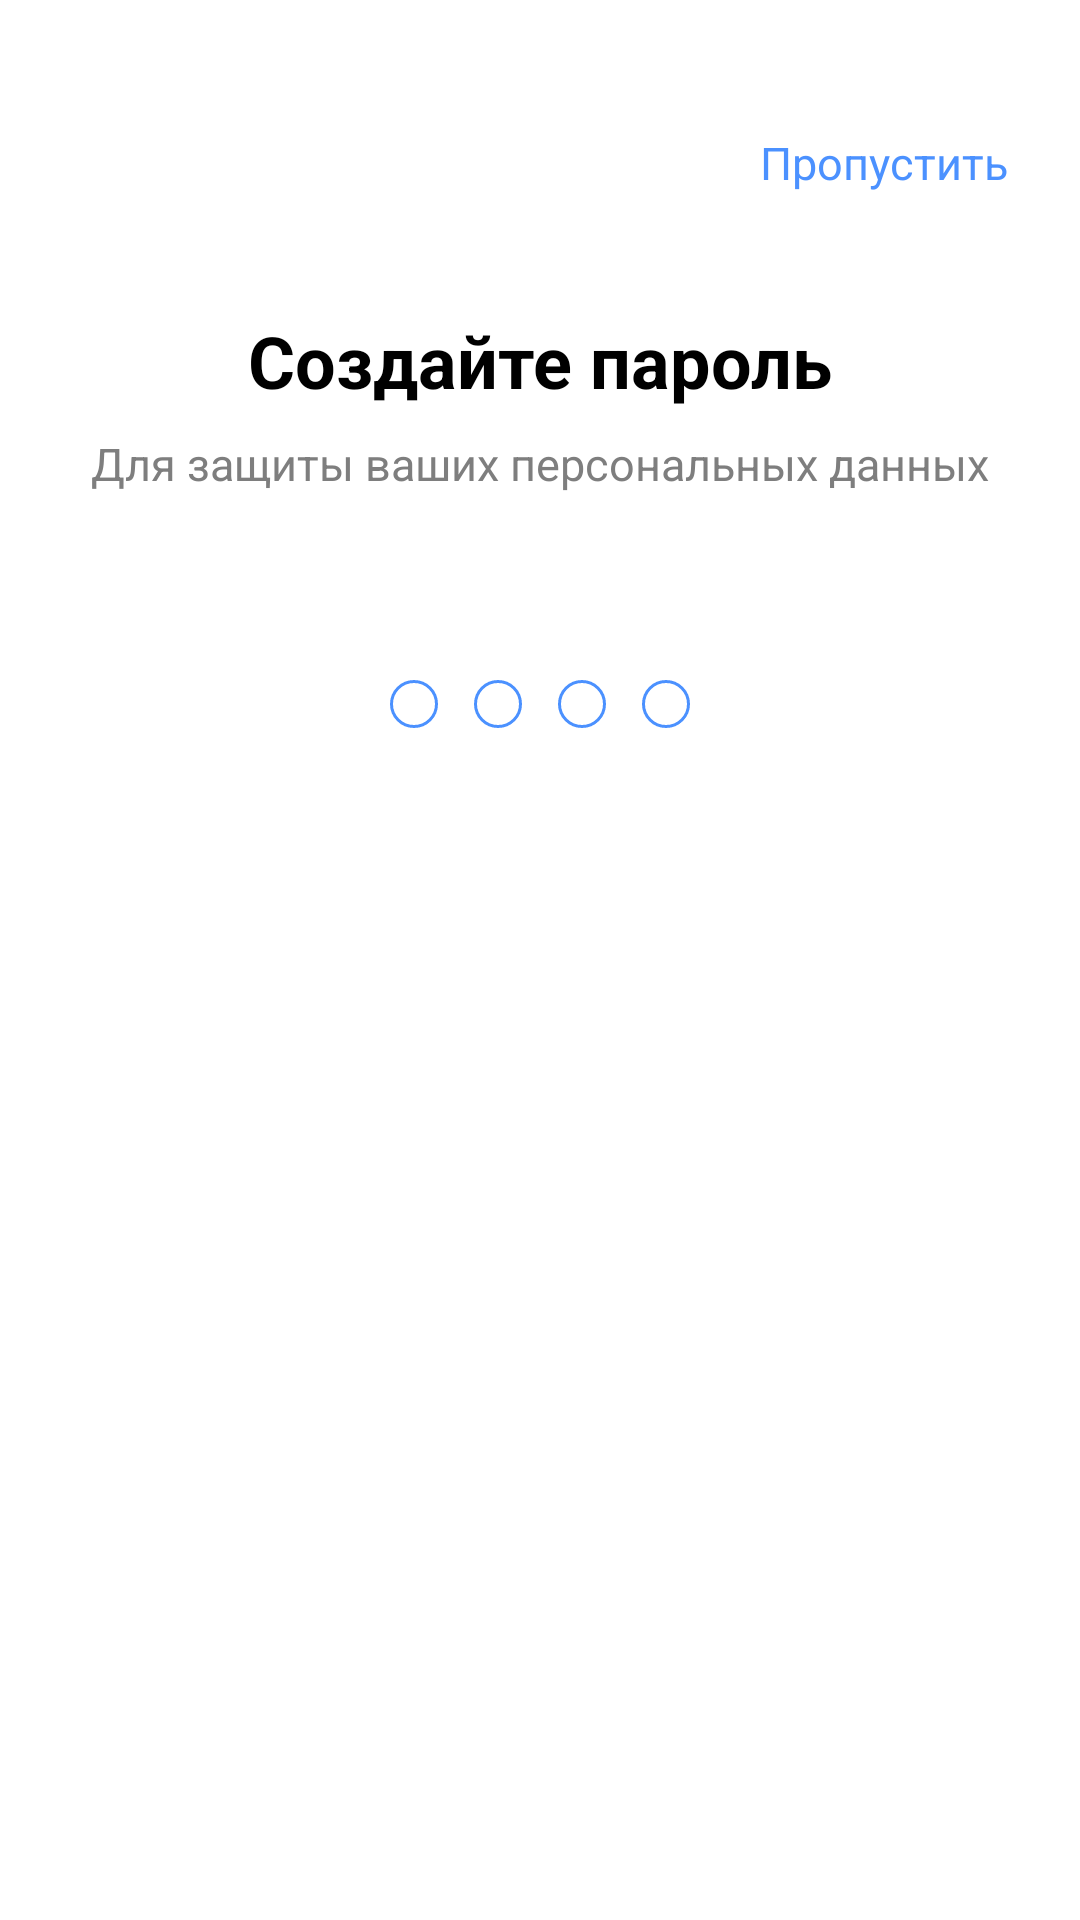

Point at icon controls on the screen. Image size 1080*1920, points as (x,y).
dot password: (414,704), (498,704), (582,704), (666,704)
